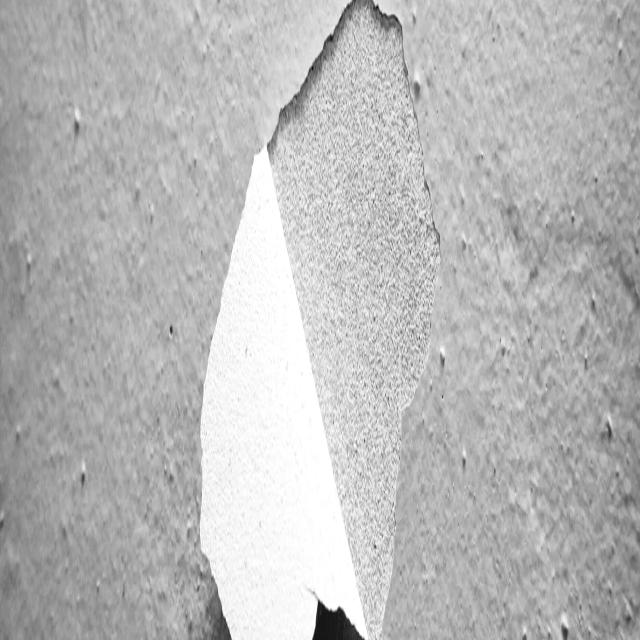peeling paint: (186, 0, 472, 640)
